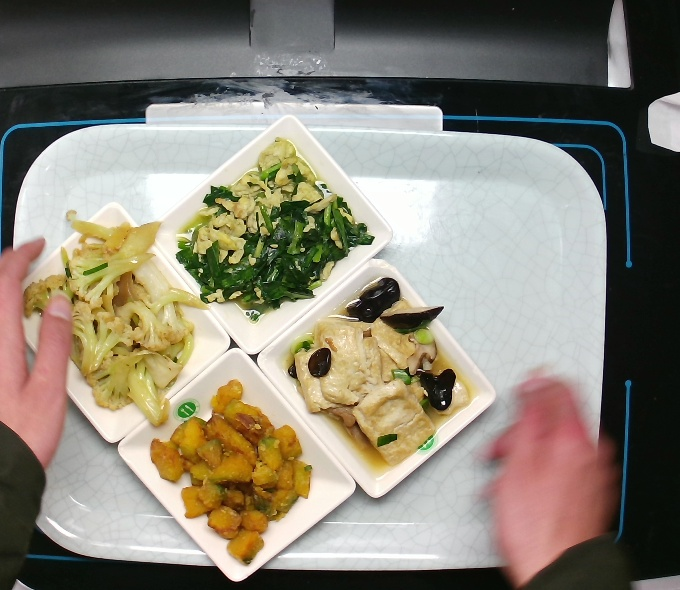wcq-DanHuangNanGua: (131, 372, 322, 564)
wcq-JiaChangDouFu: (284, 262, 473, 465)
wcq-JiuCaiJiDan: (171, 136, 375, 324)
wcq-QiuCai: (63, 211, 196, 420)
